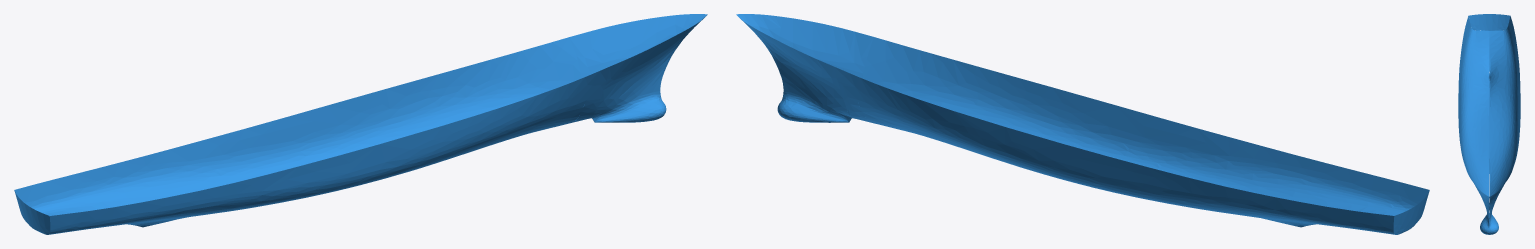
The model's file is dtmb.glb.
3 renders of one model, left to right at view 1: azimuth 30°, elevation 25°; view 2: azimuth 150°, elevation 25°; view 3: azimuth 270°, elevation 25°, orthographic. The views are drawn at different scales.
Parts seen in each view (by area): view 1: dtmb; view 2: dtmb; view 3: dtmb.
Part boxes in pixels (bbox=[...]): dtmb: bbox=[14, 14, 707, 234]; dtmb: bbox=[736, 14, 1429, 234]; dtmb: bbox=[1458, 14, 1520, 234].
Bounding box in the file's own units: 45.65 × 5.73 × 6.12.
